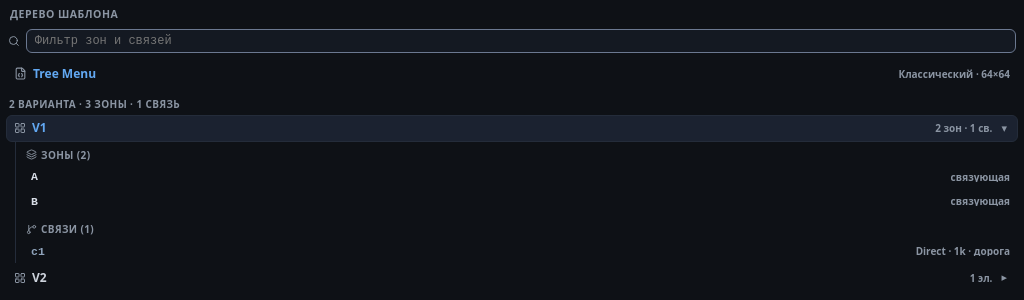
Test: TemplateTree: контекстное меню › ПКМ по зоне: «Удалить зону» удаляет зону и её связи без модалки подтверждения
Right-click the button "B связующая": (980, 201) x1=23 y1=190 x2=1018 y2=213
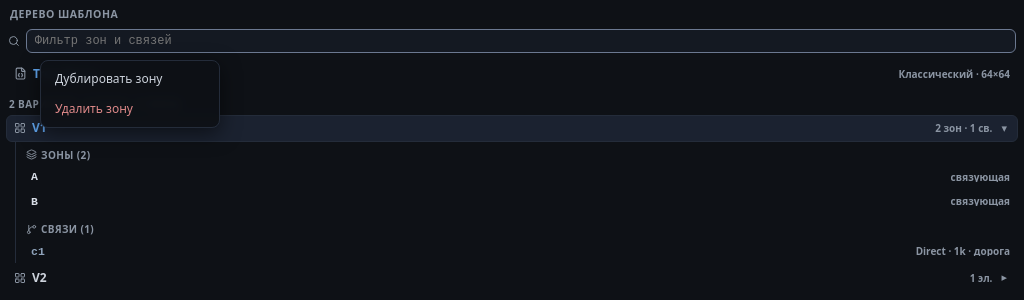
Click the menu item "Удалить зону": (130, 109) x1=45 y1=95 x2=215 y2=123
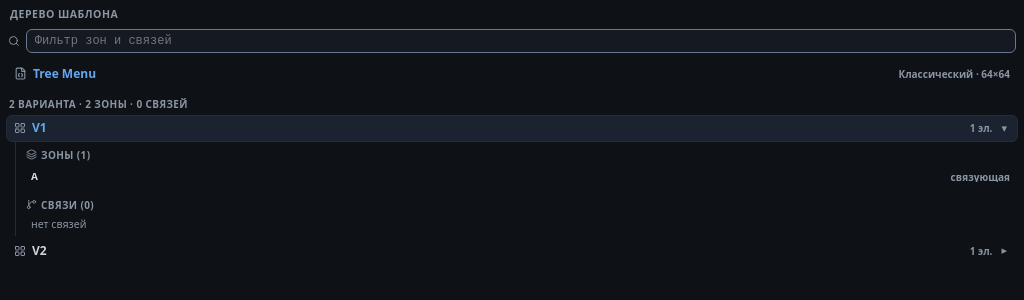
Expected: the menu is gone
